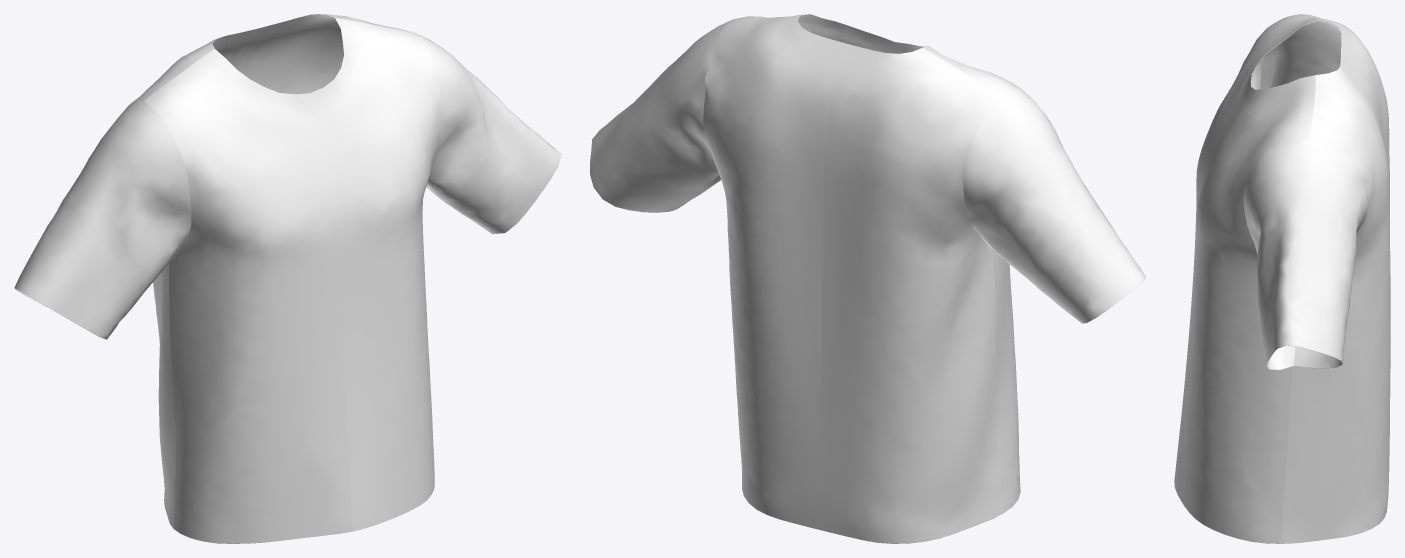
The model's file is Tshirt.glb.
3 views of the same model, side by side, from view 1: azimuth 30°, elevation 25°; view 2: azimuth 150°, elevation 25°; view 3: azimuth 270°, elevation 25° (orthographic). The views are drawn at different scales.
Parts seen in each view (by area): view 1: Tshirtupscale; view 2: Tshirtupscale; view 3: Tshirtupscale.
Boxes of the visible parts, bbox=[...] form: Tshirtupscale: bbox=[14, 14, 561, 543]; Tshirtupscale: bbox=[590, 14, 1145, 543]; Tshirtupscale: bbox=[1174, 14, 1390, 543].
Size of the model in its own units: 0.7664 by 0.6311 by 0.278.
1 material, 1 textured.
